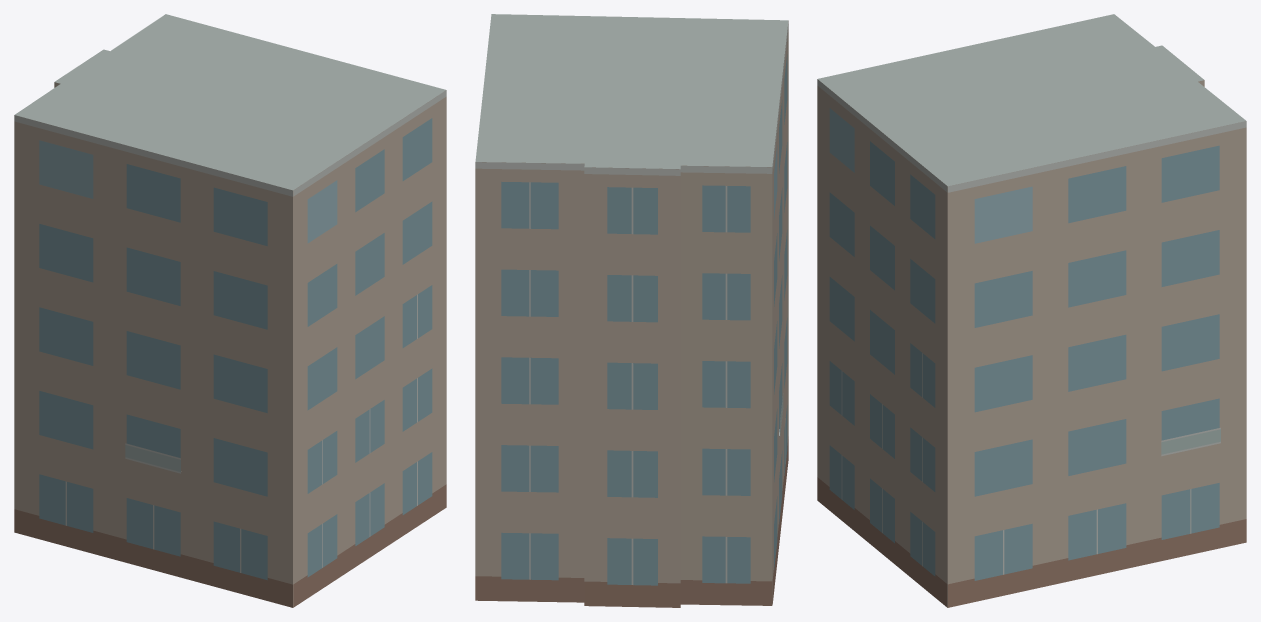
The model's file is survey-upis-32841186.glb.
3 renders of one model, left to right at view 1: azimuth 30°, elevation 25°; view 2: azimuth 150°, elevation 25°; view 3: azimuth 270°, elevation 25°, orthographic. The views are drawn at different scales.
Parts seen in each view (by area): view 1: survey-upis-32841186.tmp; view 2: survey-upis-32841186.tmp; view 3: survey-upis-32841186.tmp.
Part boxes in pixels (box(x1,y1,x2,y2)): survey-upis-32841186.tmp: box(14, 14, 446, 607); survey-upis-32841186.tmp: box(475, 14, 788, 607); survey-upis-32841186.tmp: box(817, 14, 1246, 607).
Bounding box in the file's own units: 13.86 × 15.8 × 14.59.
